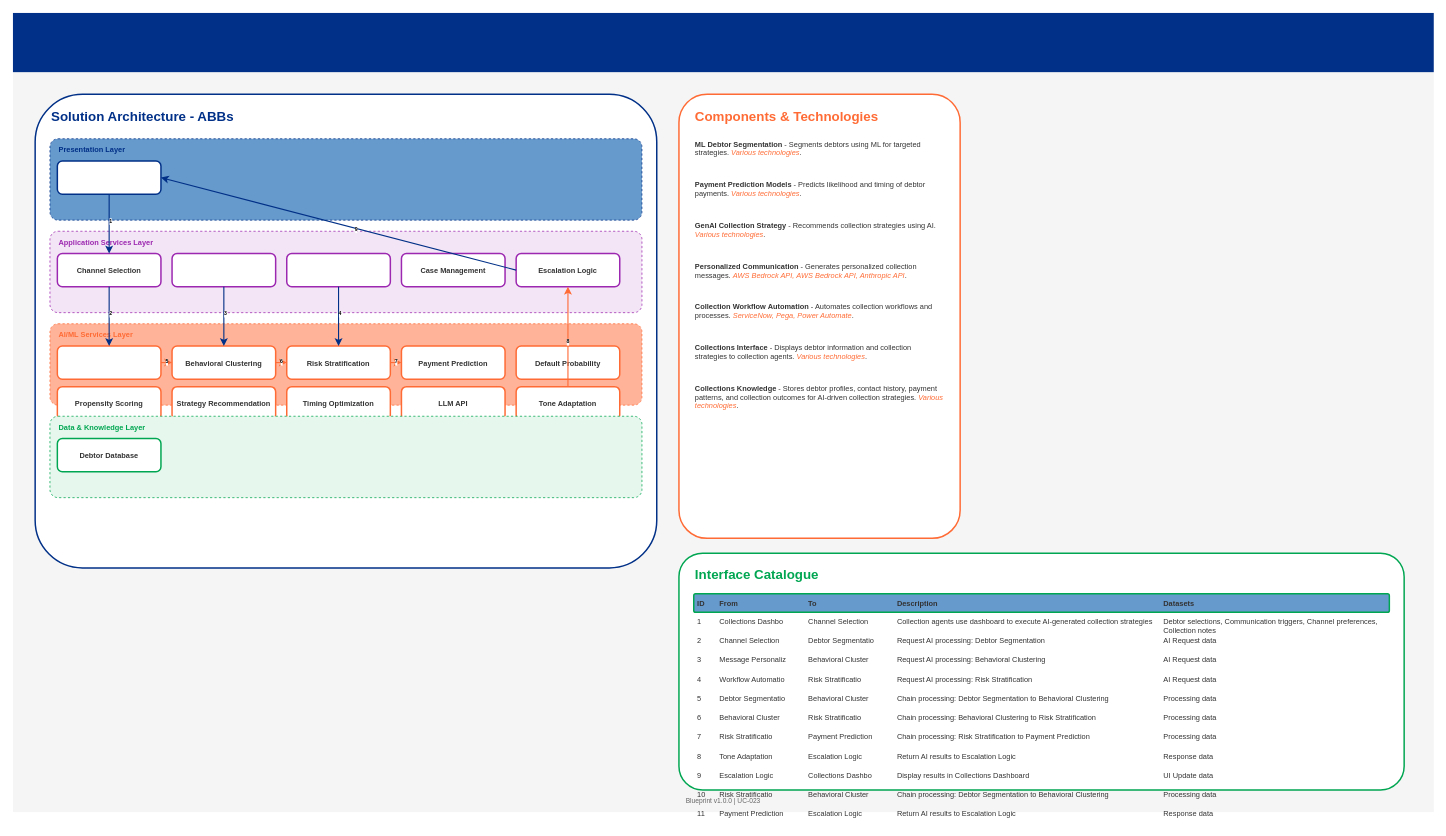
This 1446x836 diagram has some shape labels left out. The shapes that lost their labels are listed below. From the top down, each one's centre as x and y in pixels, then its label:
At point (723, 42): "Use Case Blueprint: UC-023 Collection Management".
At point (108, 177): "Collections Dashboard".
At point (223, 269): "Message Personalization".
At point (338, 269): "Workflow Automation".
At point (108, 362): "Debtor Segmentation".
